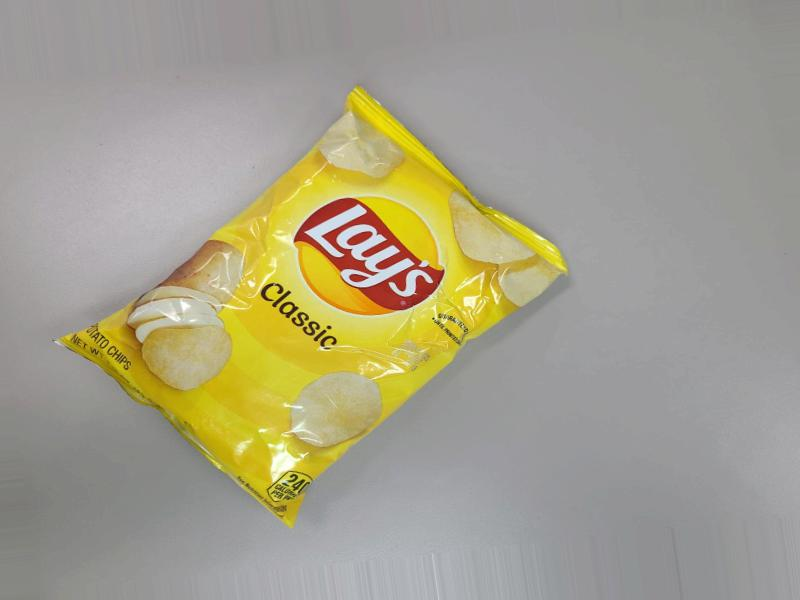lays: (94, 49, 497, 595)
